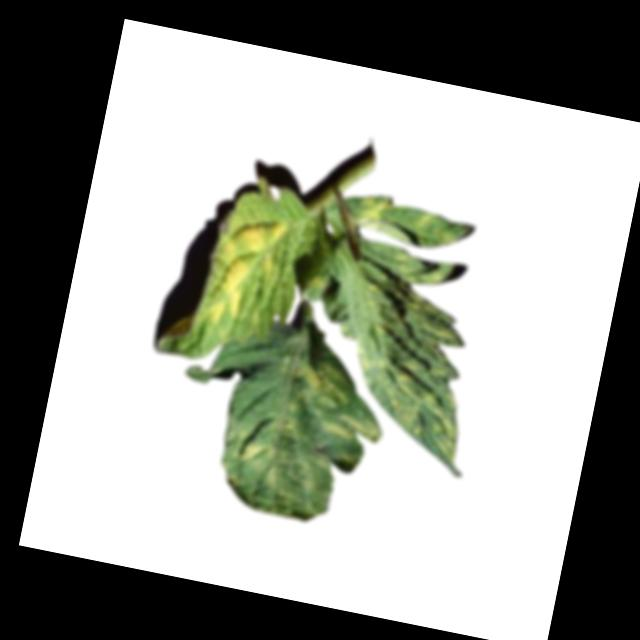Leaf_Mold: (324, 237, 495, 465), (201, 211, 290, 340), (284, 361, 390, 447), (226, 431, 282, 491), (355, 197, 387, 228)
